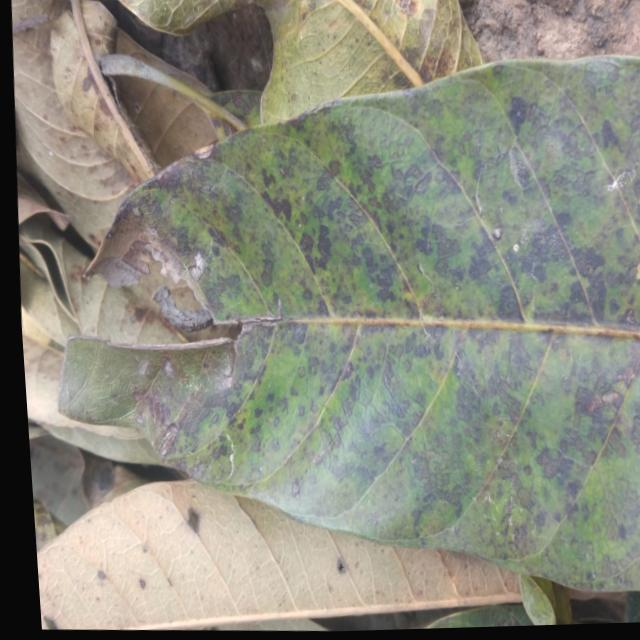Powdery Mildew: (187, 248, 210, 285), (218, 368, 234, 391), (491, 223, 504, 238)
black die: (565, 269, 611, 322), (317, 228, 334, 263), (323, 198, 344, 222), (275, 197, 294, 221), (260, 261, 274, 287), (306, 352, 320, 375), (259, 169, 276, 187)
